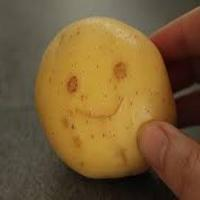biodegradable: (32, 16, 177, 178)
